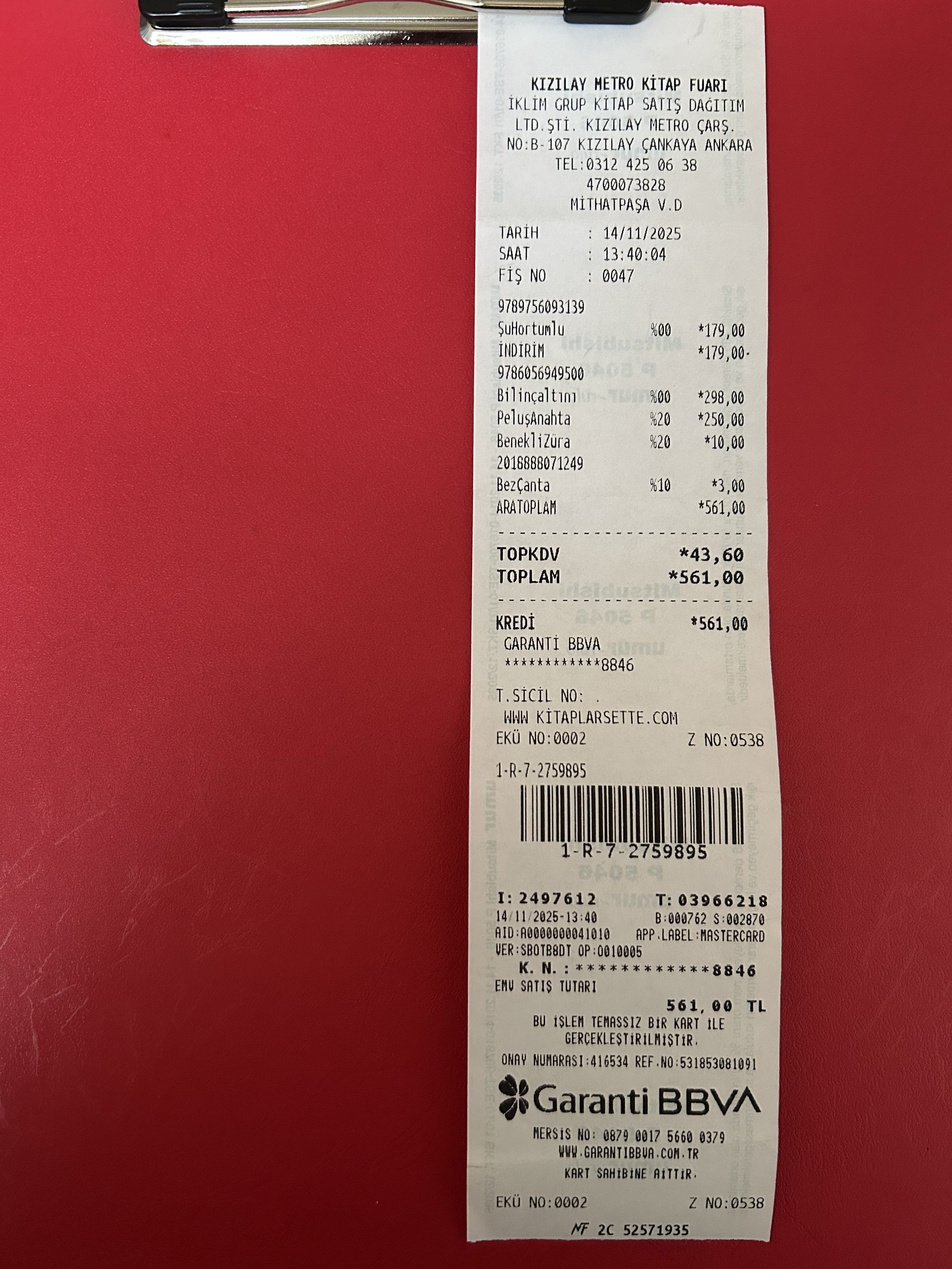date: (677, 563, 751, 591)
price: (599, 222, 687, 245)
workplace: (493, 71, 758, 155)
